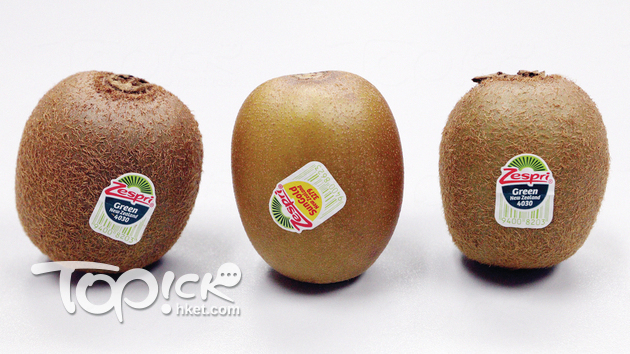kiwi: (14, 69, 203, 281), (230, 71, 406, 285), (437, 69, 611, 273)
